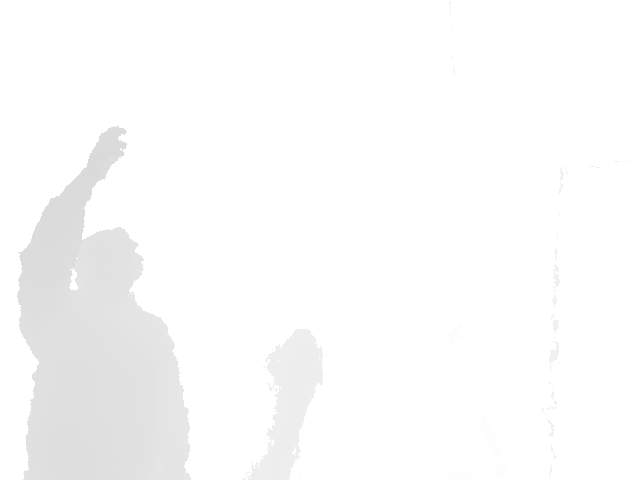hand: (87, 125, 126, 178)
head: (73, 227, 143, 299)
person: (15, 125, 192, 480)
